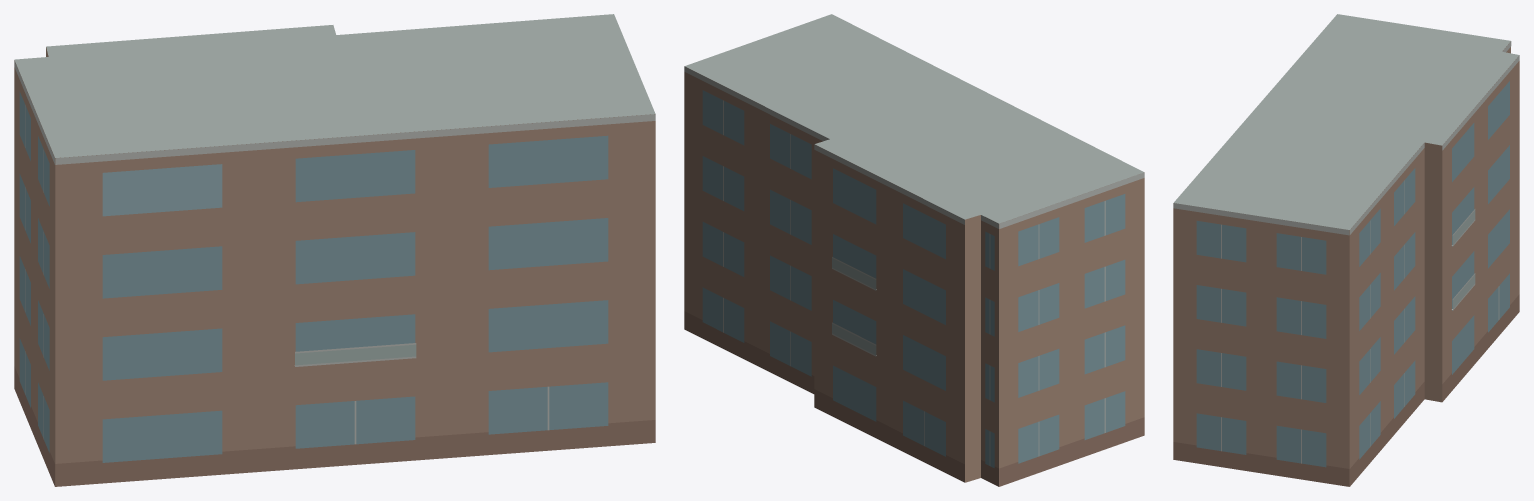
Rendered from survey-upis-32718962.glb.
The picture shows the model from 3 angles, left to right: view 1: azimuth 30°, elevation 25°; view 2: azimuth 150°, elevation 25°; view 3: azimuth 270°, elevation 25°; orthographic projection. The views are drawn at different scales.
Visible parts, largest first — view 1: survey-upis-32718962.tmp; view 2: survey-upis-32718962.tmp; view 3: survey-upis-32718962.tmp.
Boxes of the visible parts, box(x1,y1,x2,y2) form: survey-upis-32718962.tmp: box(14, 14, 655, 486); survey-upis-32718962.tmp: box(684, 14, 1144, 486); survey-upis-32718962.tmp: box(1173, 14, 1519, 486).
Size of the model in its own units: 21.12 by 11.7 by 14.3.
